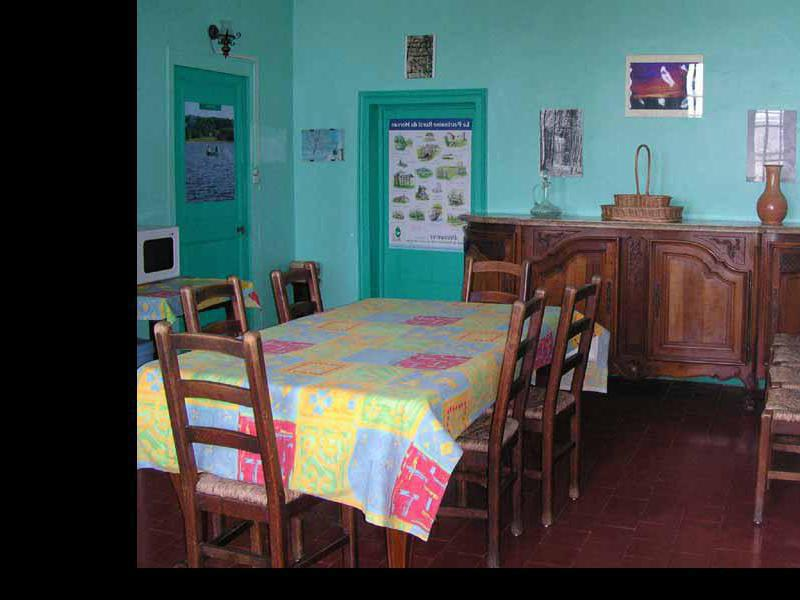Puerta: (358, 98, 483, 293), (178, 64, 247, 273)
